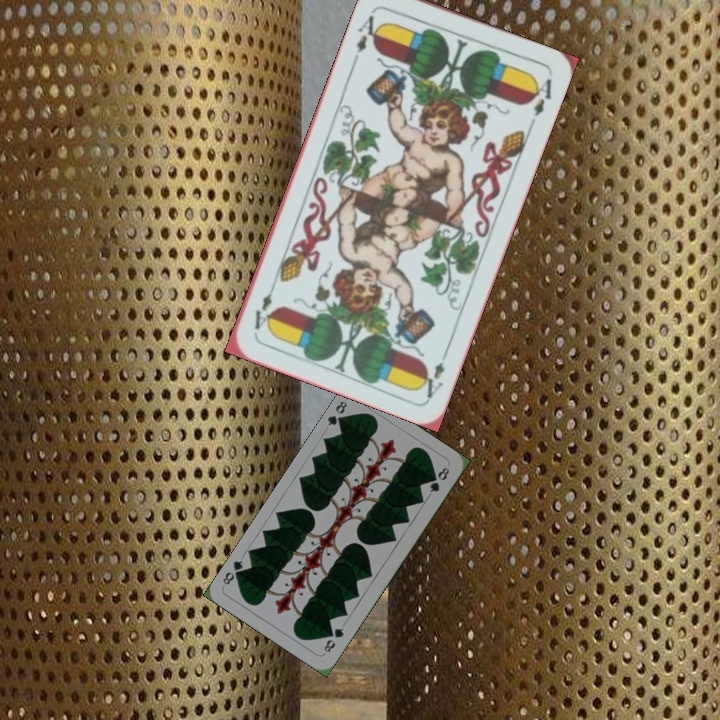EA: (416, 344, 451, 401), (352, 6, 385, 56)
G8: (323, 397, 350, 429), (320, 624, 346, 655)
